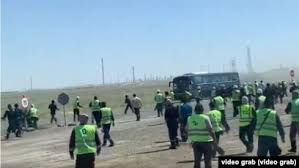vest: (75, 125, 99, 153), (189, 116, 212, 143), (258, 110, 278, 135), (240, 106, 254, 125), (102, 108, 114, 124), (215, 97, 225, 111)
